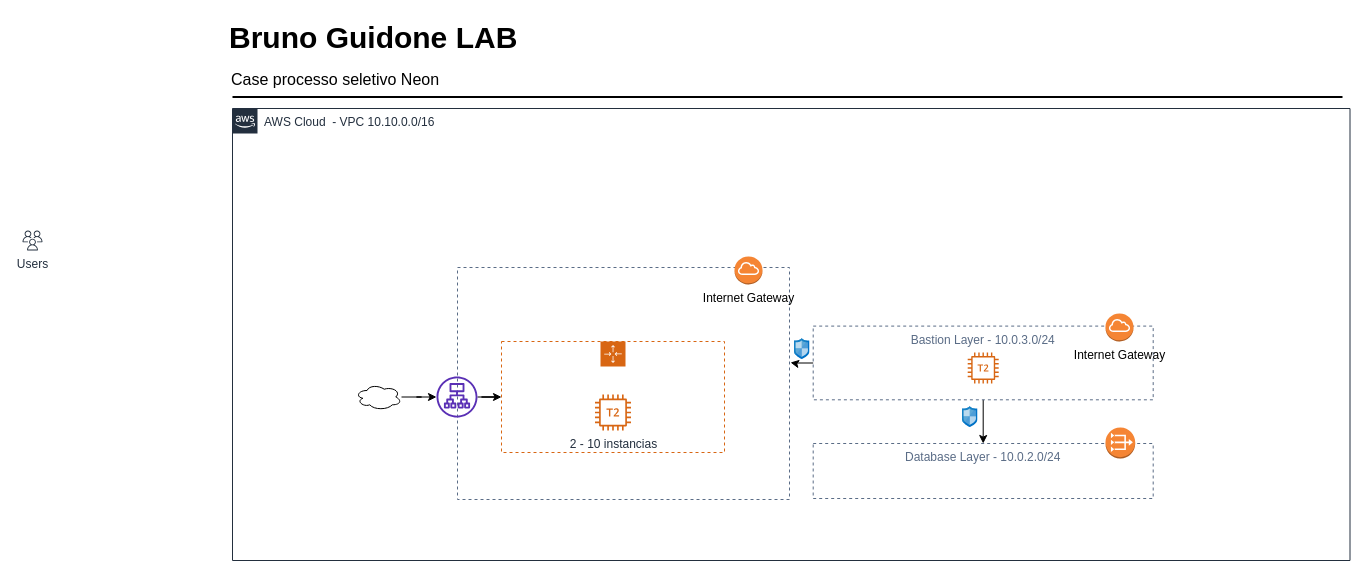
This 1368x578 diagram has some shape labels left out. The box of each missing label's shape, as (x1, y1, x2, y2) in pixels:
Application Layer - 10.0.1.0/24 zone A 10.0.11.0/24 zone B: (456, 266, 790, 500)
Application Load Balancer: (436, 376, 477, 417)
Auto Scaling group: (500, 340, 724, 452)
Nat Gateway: (1104, 426, 1135, 458)
